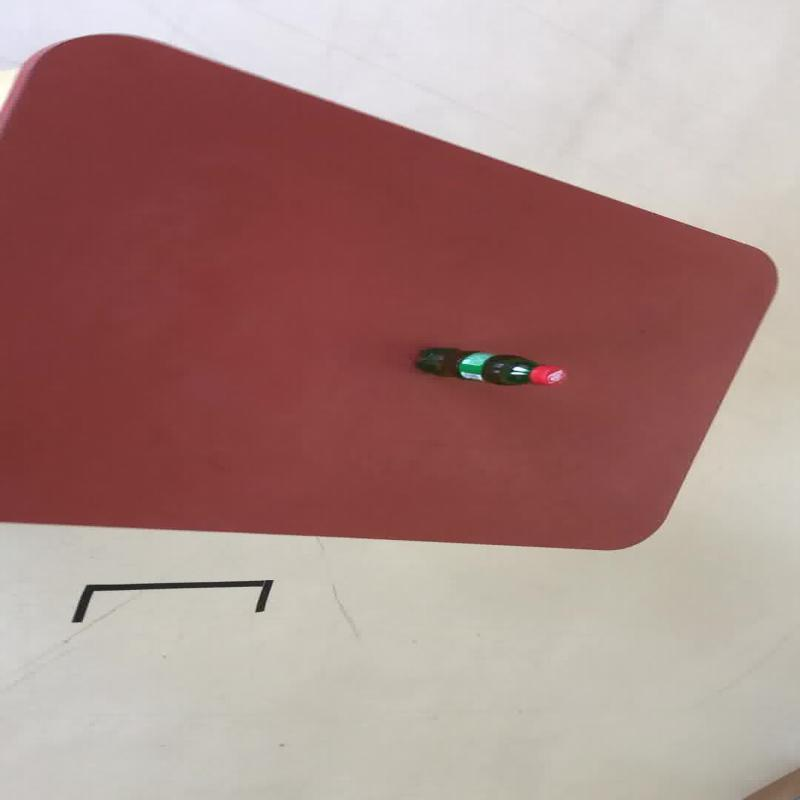guarana: (412, 346, 566, 386)
